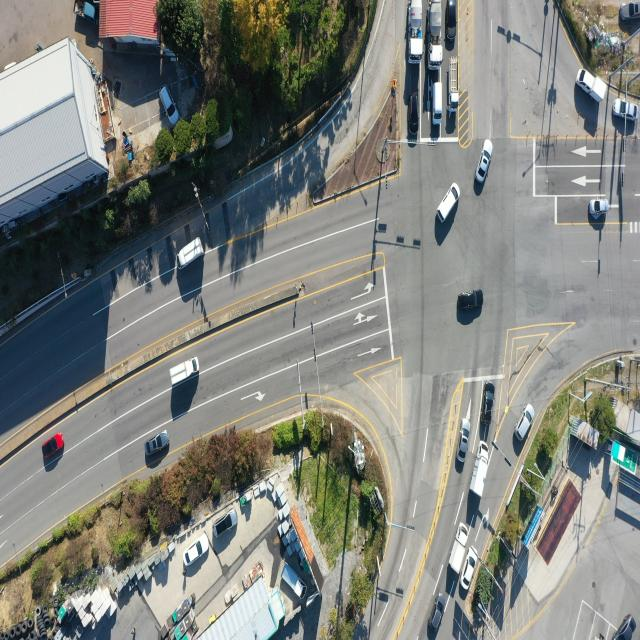car: (438, 184, 461, 224), (186, 531, 209, 569), (158, 83, 178, 124), (516, 404, 535, 442), (429, 596, 445, 640), (478, 141, 494, 184), (461, 550, 477, 591), (213, 510, 236, 538), (614, 98, 640, 121), (146, 432, 170, 456), (483, 383, 495, 430), (45, 432, 66, 458), (431, 82, 443, 126), (458, 420, 470, 464), (617, 612, 635, 640), (457, 290, 482, 310), (410, 94, 420, 140), (620, 1, 640, 21), (448, 0, 457, 43), (590, 199, 610, 216)
medium_truck: (410, 0, 426, 64), (428, 0, 443, 66)
small_truck: (575, 66, 606, 104), (281, 560, 308, 601), (471, 445, 491, 500), (448, 523, 468, 576), (172, 356, 202, 388), (180, 239, 207, 273), (447, 56, 461, 111), (73, 0, 97, 23)
